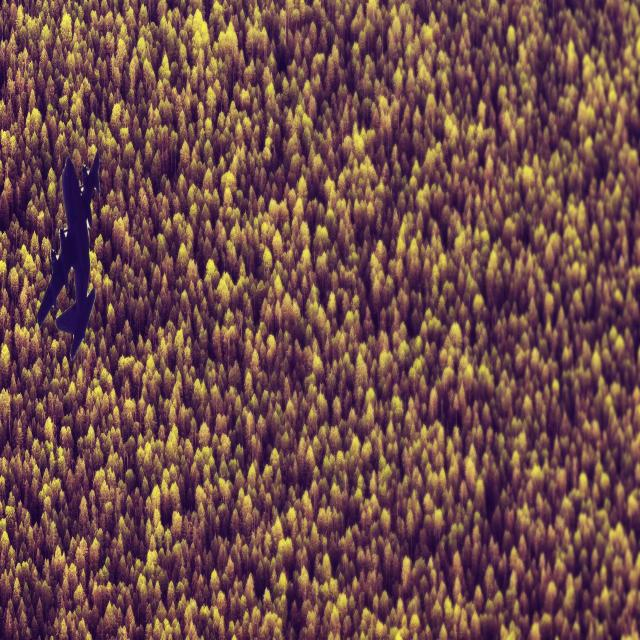airplane: (36, 148, 101, 362)
